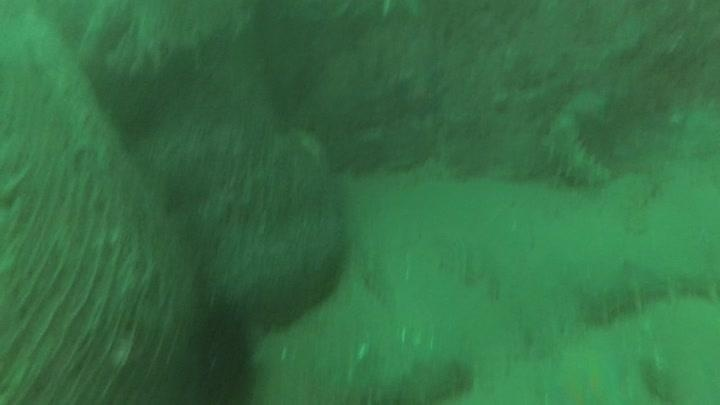echinus: (173, 296, 263, 405)
holothurian: (574, 257, 670, 329), (540, 112, 614, 190)
starfish: (539, 340, 632, 405)
